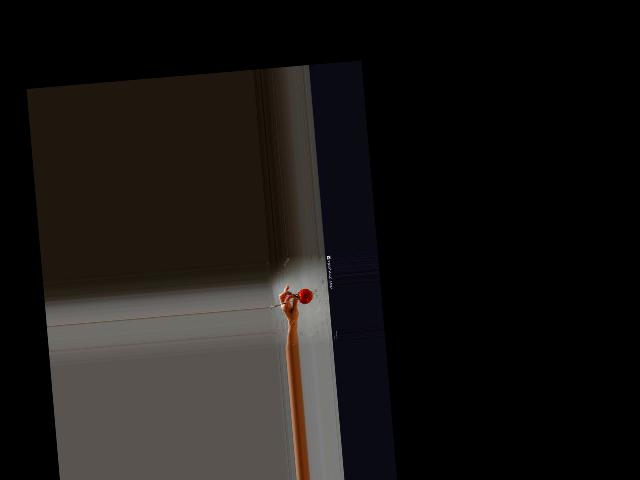tomato: (298, 288, 314, 305)
